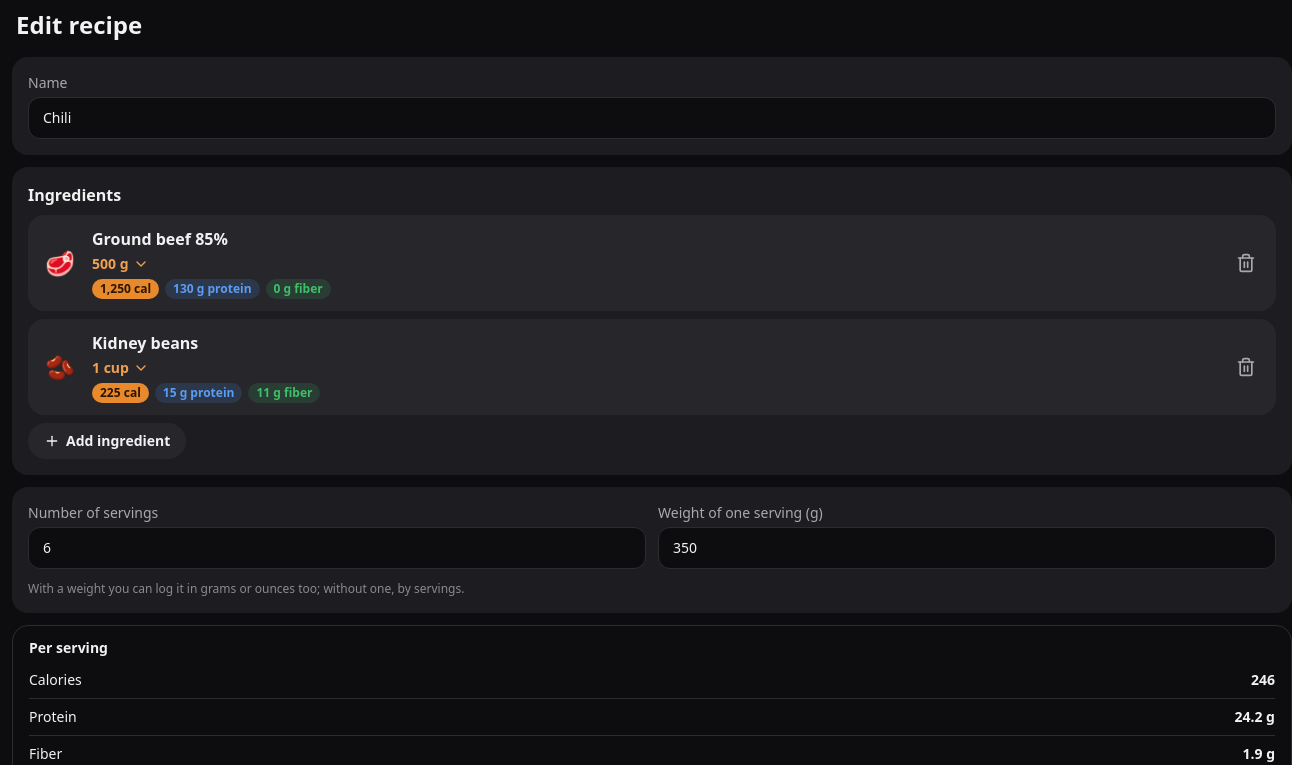
Test: Recipe editor › Recalculate waits until changes are saved: an edited amount disables it, and putting it back enables it
The width and height of the screenshot is (1292, 765).
Check: the field labelled "Name" is shown, box top-left (28, 97), bottom-right (1276, 139)
Check: the text "Save your changes first" is not shown
Click the button "1 cup" at (120, 368), box top-left (92, 358), bottom-right (149, 378)
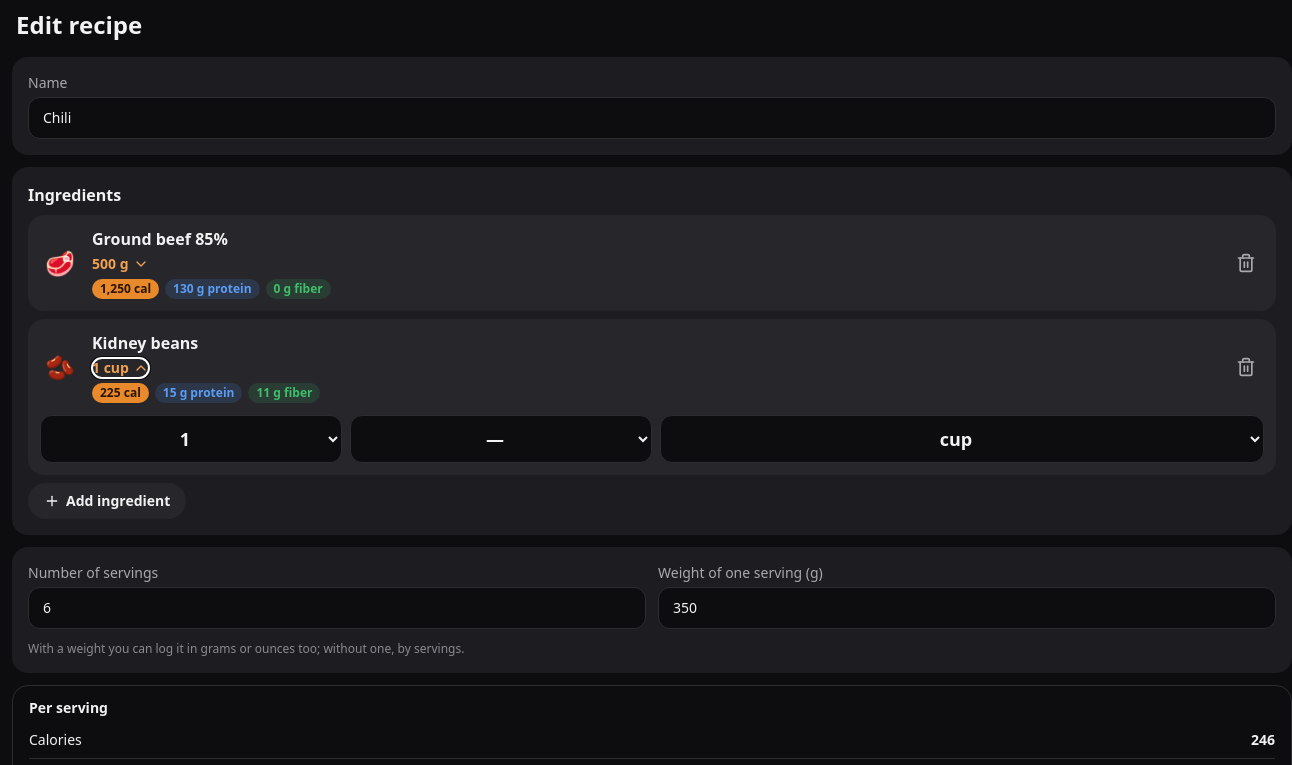
Select "2" in the dropdown named "Whole number" at (191, 439), box top-left (40, 415), bottom-right (342, 463)
(page scrolled)
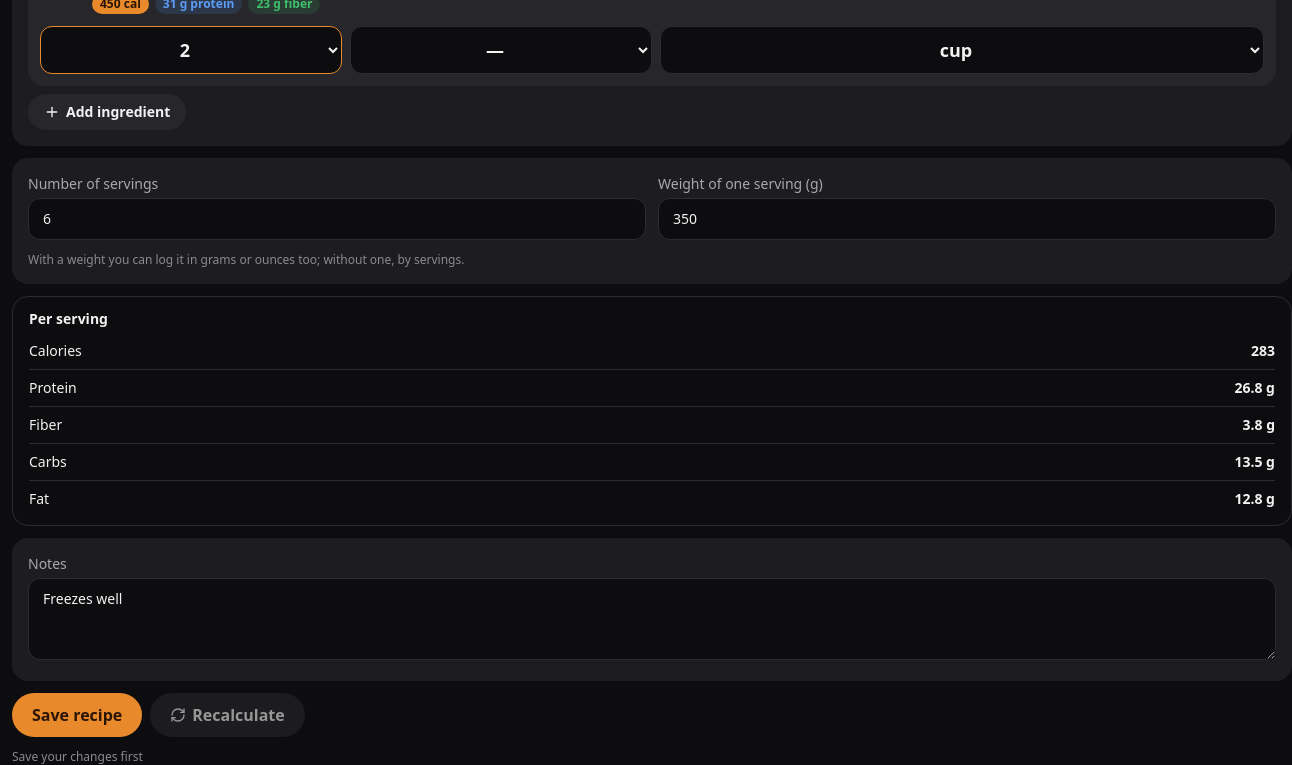
Check: the button "Recalculate" is disabled
Check: the text "Save your changes first" is shown, box top-left (12, 748), bottom-right (143, 764)
Click the button "Recalculate" at (228, 715), box top-left (150, 693), bottom-right (305, 737)
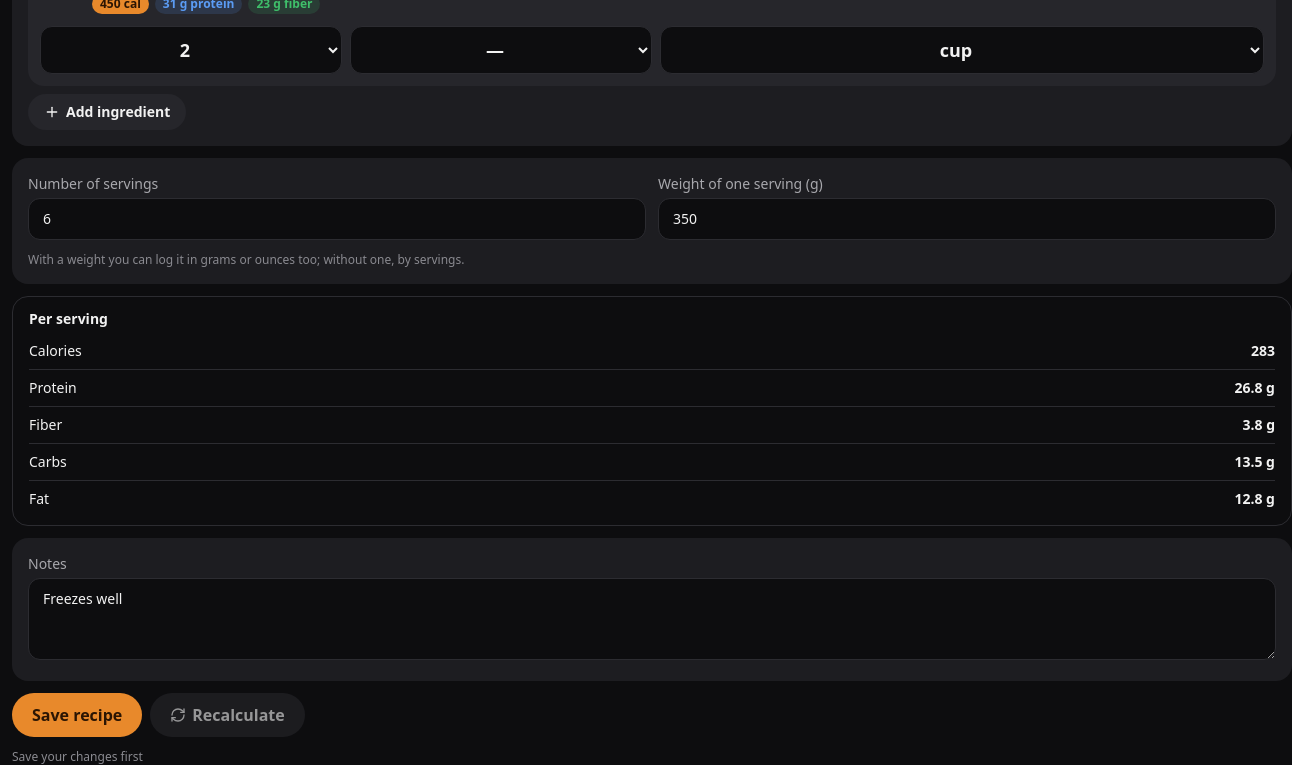
Select "1" in the dropdown named "Whole number" at (191, 50), box top-left (40, 26), bottom-right (342, 74)
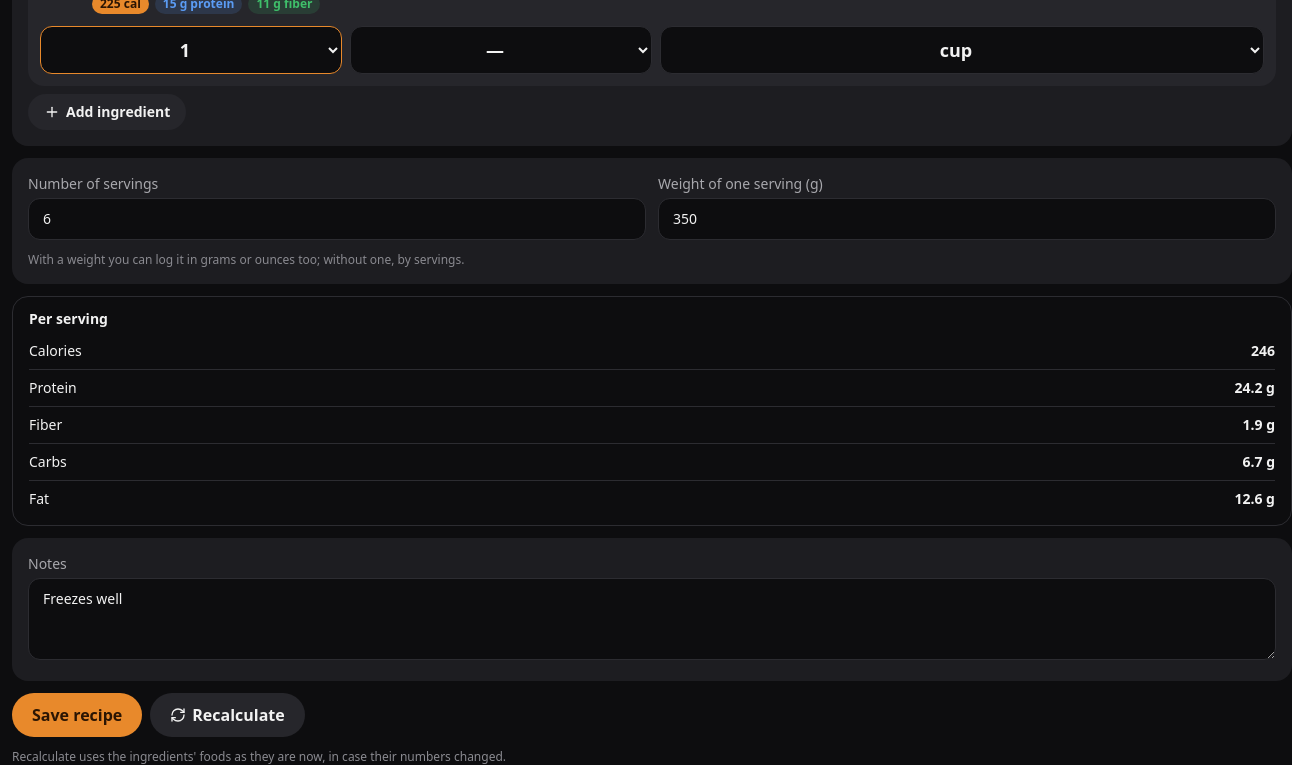
Check: the button "Recalculate" is enabled, box top-left (150, 693), bottom-right (305, 737)
Note: Other fields count too
Type "!" into the text box labelled "Notes" at (652, 619), box top-left (28, 578), bottom-right (1276, 660)
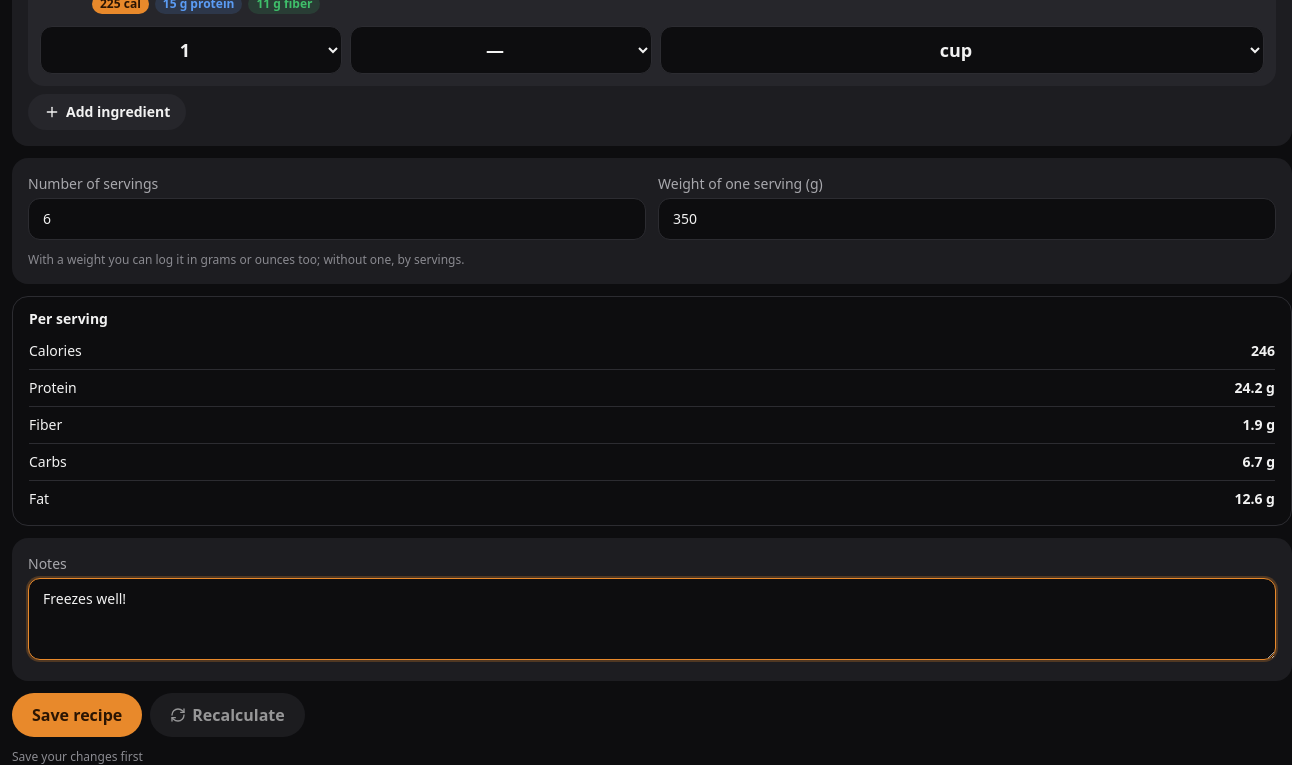
Check: the button "Recalculate" is disabled, box top-left (150, 693), bottom-right (305, 737)
